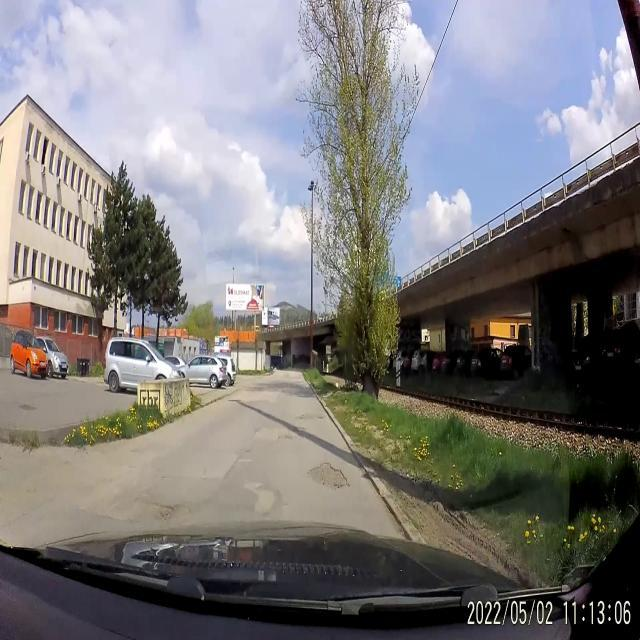Pothole: (302, 452, 350, 500), (146, 488, 190, 526), (265, 424, 301, 454), (294, 408, 328, 428)
